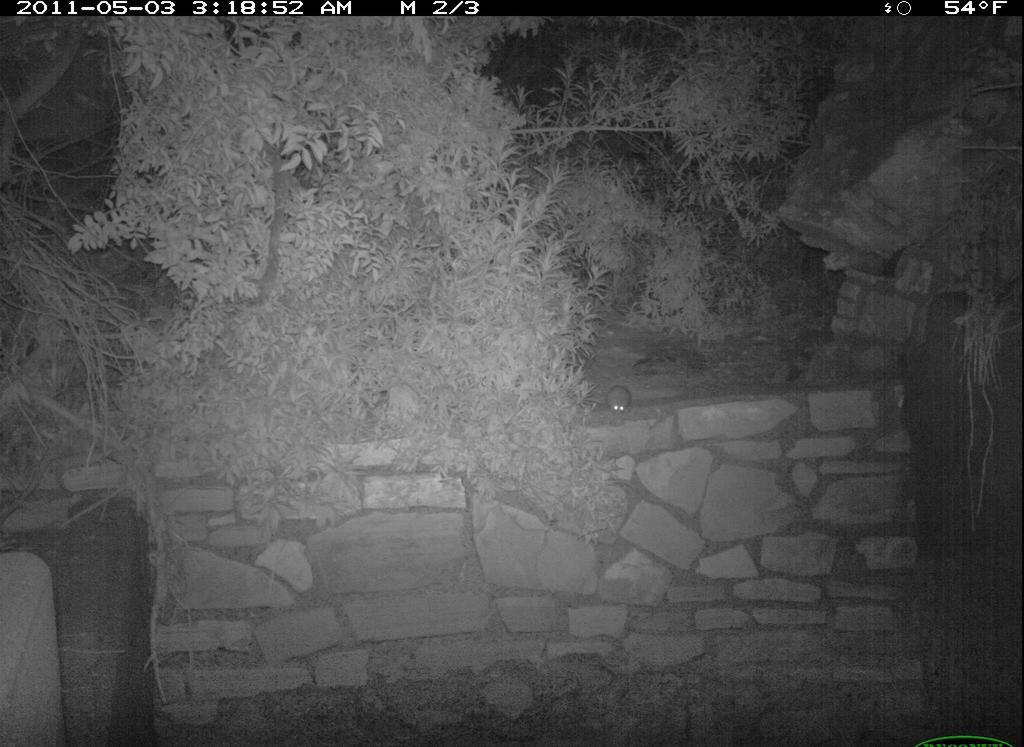rodent: (597, 374, 642, 425)
